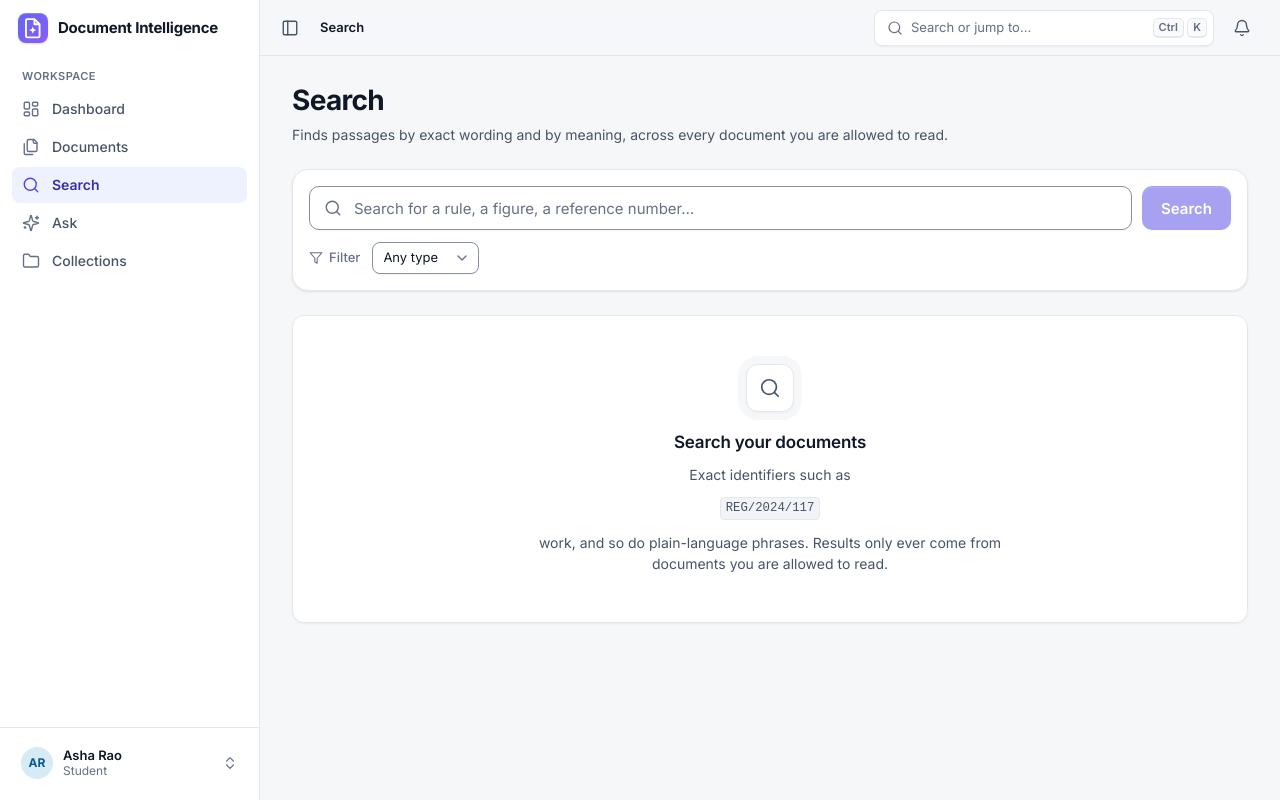
it: search results by document › asks the server to group by document
Step 1. Type "fees" into the search field named "Search documents" → (721, 208), box [309, 186, 1132, 230]
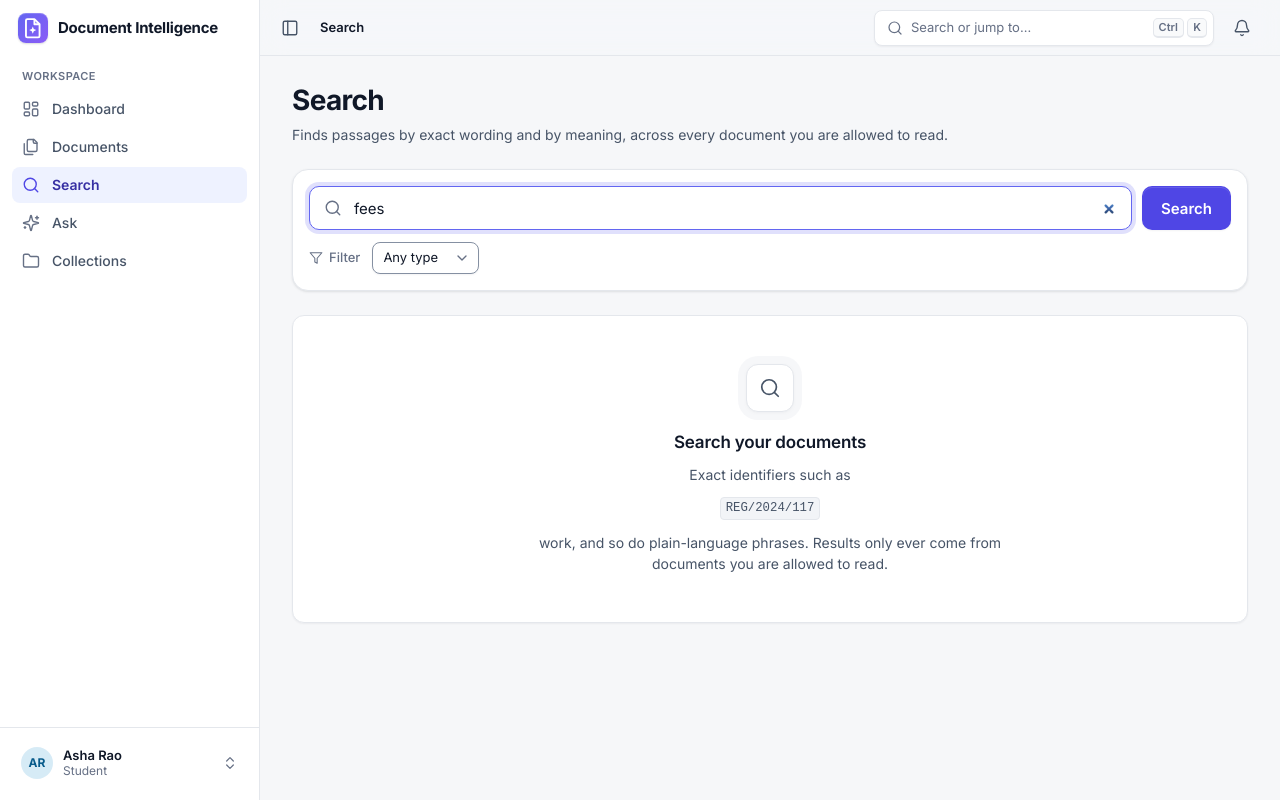
Step 2. Click the button "Search" → (1187, 208), box [1142, 186, 1231, 230]
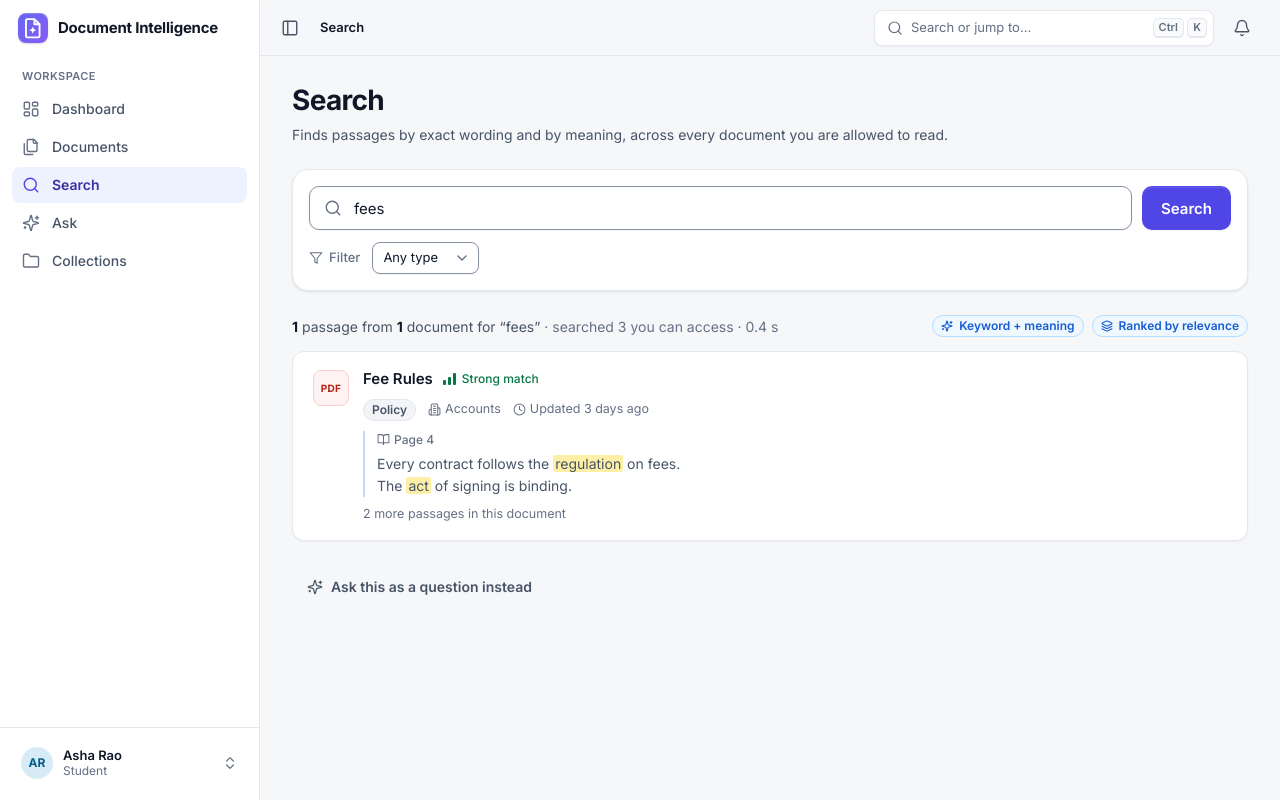
Result: the link "Fee Rules" is shown at [363, 368, 433, 391]
